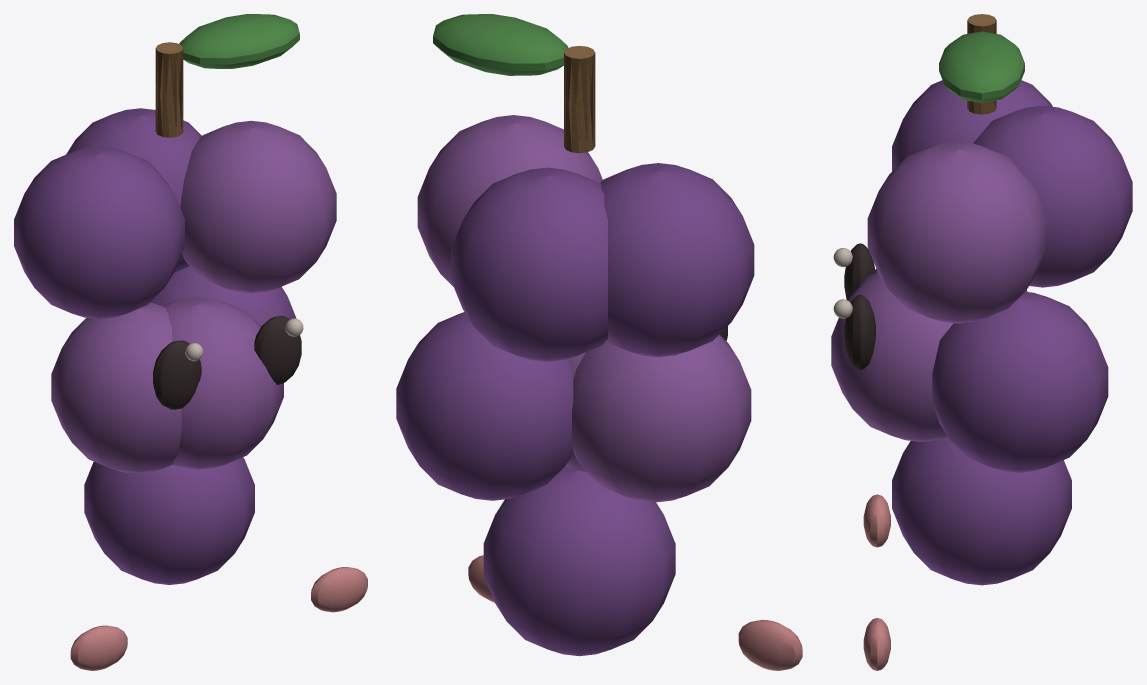
3 renders of one model, left to right at view 1: azimuth 30°, elevation 25°; view 2: azimuth 150°, elevation 25°; view 3: azimuth 270°, elevation 25°, orthographic. The views are drawn at different scales.
Visible parts, largest first — view 1: pet_pe9257480; view 2: pet_pe9257480; view 3: pet_pe9257480.
Part boxes in pixels (left/top/right/bottom): pet_pe9257480: left=14, top=14, right=367, bottom=670; pet_pe9257480: left=396, top=14, right=802, bottom=670; pet_pe9257480: left=831, top=14, right=1132, bottom=670.
Size of the model in its own units: 0.2967 by 0.5382 by 0.2477.
